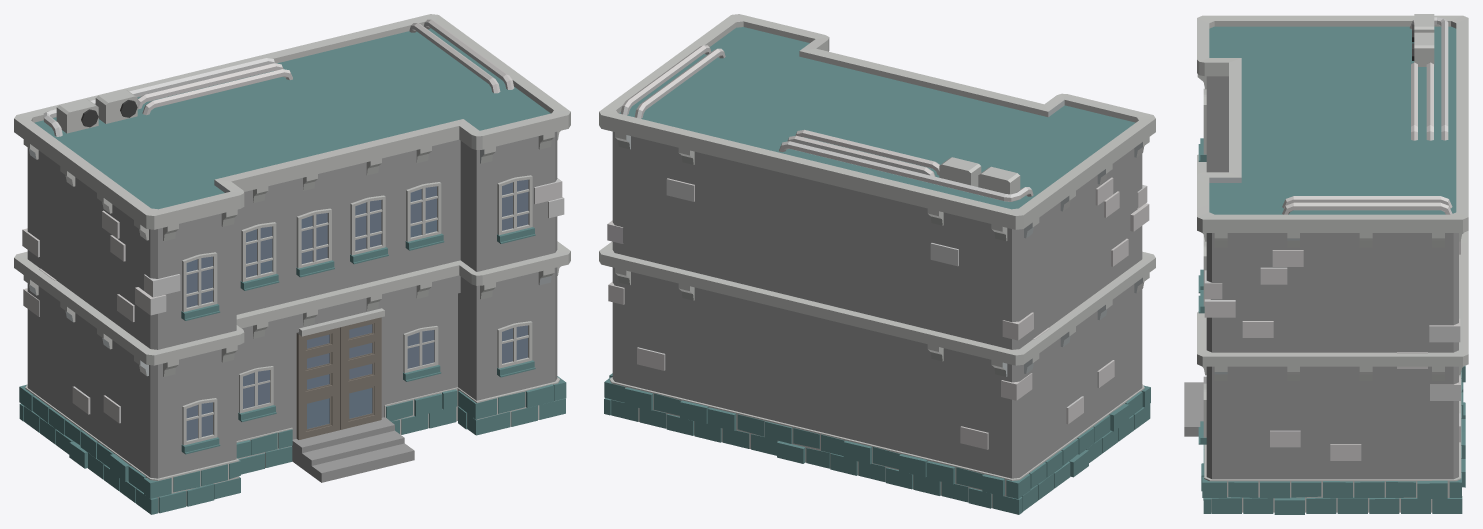
File: 2Story Wide.glb
3 views of the same model, side by side, from view 1: azimuth 30°, elevation 25°; view 2: azimuth 150°, elevation 25°; view 3: azimuth 270°, elevation 25° (orthographic).
Visible parts, largest first — view 1: 2Story_Wide; view 2: 2Story_Wide; view 3: 2Story_Wide.
Boxes of the visible parts, box(x1,y1,x2,y2) form: 2Story_Wide: box(14, 14, 570, 514); 2Story_Wide: box(599, 14, 1155, 514); 2Story_Wide: box(1184, 14, 1468, 514).
Bounding box in the file's own units: 9.18 × 6.6 × 5.41.
Materials: 1 (1 with a texture image).
